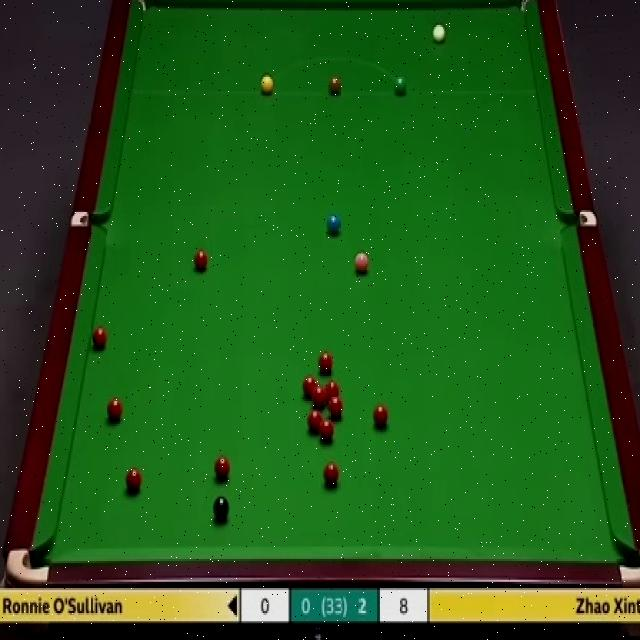black-ball: (213, 496, 230, 525)
blue-ball: (326, 212, 341, 236)
brown-ball: (328, 73, 341, 95)
green-ball: (393, 77, 407, 97)
pink-ball: (355, 251, 369, 273)
red-ball: (124, 466, 143, 495), (323, 462, 341, 489), (90, 326, 107, 354), (214, 455, 232, 480), (373, 403, 389, 431), (107, 395, 123, 422), (318, 351, 333, 376), (319, 421, 334, 446), (302, 374, 316, 398), (307, 410, 321, 434), (194, 248, 208, 270), (328, 396, 342, 418), (325, 381, 339, 402), (312, 385, 325, 405)
white-ball: (432, 20, 448, 47)
yellow-ball: (260, 75, 274, 96)
